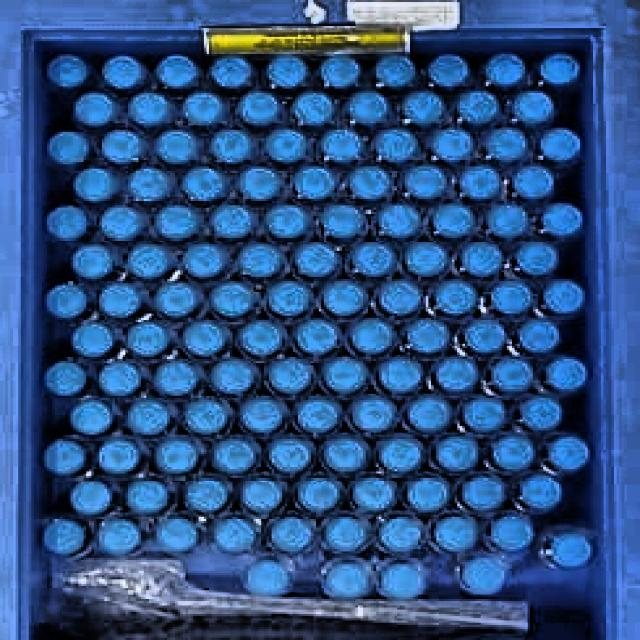vial: (519, 392, 566, 432), (434, 357, 481, 395), (178, 165, 225, 203), (352, 396, 400, 433), (378, 559, 423, 598), (99, 203, 144, 242), (376, 358, 423, 395), (293, 241, 340, 278), (484, 125, 531, 162), (546, 435, 592, 472), (482, 51, 528, 88), (462, 556, 506, 594), (551, 531, 595, 569), (155, 204, 200, 241), (153, 439, 199, 475), (101, 54, 147, 90), (323, 357, 366, 395), (353, 239, 396, 277), (45, 359, 88, 397), (213, 517, 257, 554), (322, 203, 366, 240), (152, 128, 196, 165), (379, 517, 424, 553), (350, 318, 395, 354), (454, 88, 499, 124), (128, 400, 173, 436), (185, 478, 230, 514), (206, 56, 255, 89), (432, 436, 478, 471), (210, 282, 256, 317), (373, 55, 420, 89), (461, 240, 504, 277), (346, 90, 389, 127), (492, 355, 536, 391), (405, 241, 449, 277), (486, 204, 530, 240), (430, 128, 474, 164), (267, 282, 312, 317), (265, 204, 310, 239), (349, 166, 394, 201), (185, 400, 230, 435), (153, 518, 198, 553), (400, 91, 446, 125), (267, 49, 308, 87), (101, 128, 143, 165), (235, 90, 278, 126), (375, 129, 418, 165), (43, 283, 86, 319), (128, 244, 171, 280), (490, 516, 534, 551), (519, 475, 563, 510), (239, 243, 283, 278), (292, 91, 336, 126), (125, 478, 169, 513), (183, 244, 228, 278), (324, 436, 365, 473), (212, 440, 254, 476), (264, 128, 306, 164), (99, 361, 141, 397), (43, 519, 85, 555), (324, 517, 367, 552), (155, 283, 198, 318), (322, 129, 365, 164), (461, 477, 508, 509), (405, 478, 449, 512), (320, 282, 364, 316), (209, 129, 253, 163), (403, 166, 447, 200), (425, 52, 469, 86), (155, 55, 199, 89), (44, 54, 88, 88), (126, 92, 174, 123), (434, 516, 475, 552), (546, 355, 587, 391), (99, 518, 140, 554), (537, 52, 583, 84), (353, 476, 395, 511), (269, 519, 311, 554), (242, 479, 284, 514), (270, 437, 312, 472), (296, 319, 338, 354), (182, 322, 224, 357), (210, 205, 252, 240), (71, 323, 113, 358), (295, 400, 338, 434), (157, 363, 200, 397), (459, 167, 502, 201), (464, 321, 508, 354), (98, 440, 142, 473), (544, 279, 584, 315), (240, 165, 280, 201), (464, 397, 505, 432), (410, 398, 451, 433), (516, 241, 557, 276), (243, 322, 284, 357), (183, 92, 224, 127), (435, 281, 477, 315), (319, 54, 361, 88), (99, 284, 141, 318), (520, 318, 563, 351), (241, 399, 284, 432), (70, 402, 113, 435), (127, 168, 170, 201), (328, 560, 367, 596), (492, 279, 532, 314), (43, 442, 83, 477), (492, 436, 533, 470), (212, 361, 253, 395), (380, 204, 421, 238), (71, 481, 112, 515), (47, 131, 88, 165), (292, 167, 334, 200), (542, 203, 584, 236), (538, 129, 580, 162), (127, 323, 169, 356), (73, 93, 115, 126), (379, 282, 422, 314), (513, 91, 556, 123), (247, 561, 287, 595), (433, 204, 474, 237), (45, 206, 86, 239), (70, 246, 112, 278), (409, 320, 448, 354), (270, 360, 310, 393), (514, 167, 555, 199), (379, 440, 419, 472), (300, 479, 340, 511), (76, 169, 117, 200)
